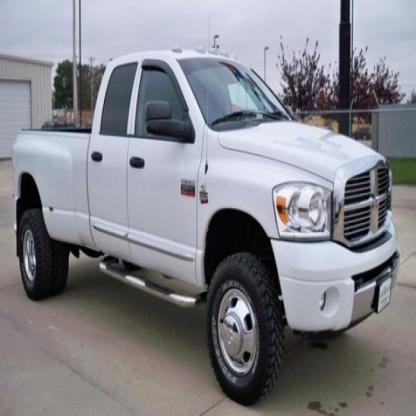Vehicle: (14, 51, 400, 405)
